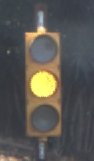Yellow: (19, 24, 73, 144)
